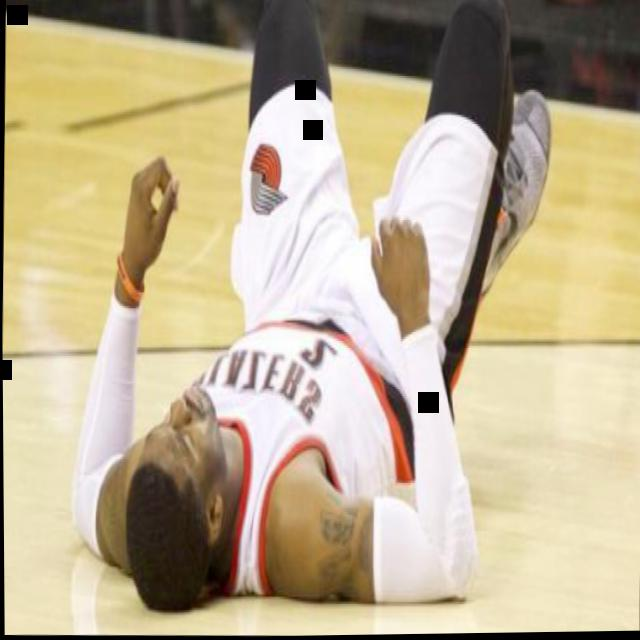Fall-Detected: (22, 0, 585, 640)
